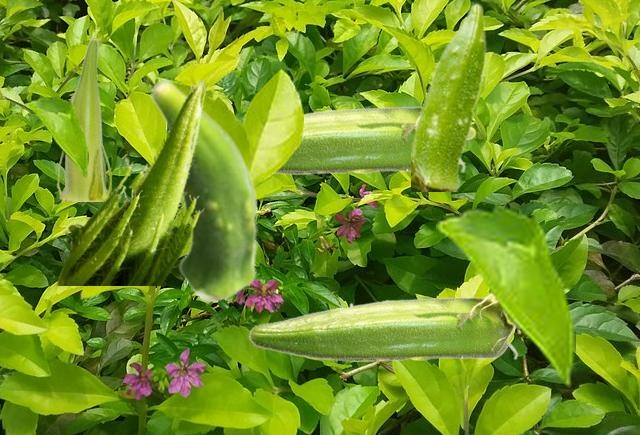okra: (54, 78, 208, 284), (149, 78, 259, 302), (248, 293, 520, 361), (411, 1, 486, 190), (275, 104, 475, 174), (56, 37, 110, 200)
